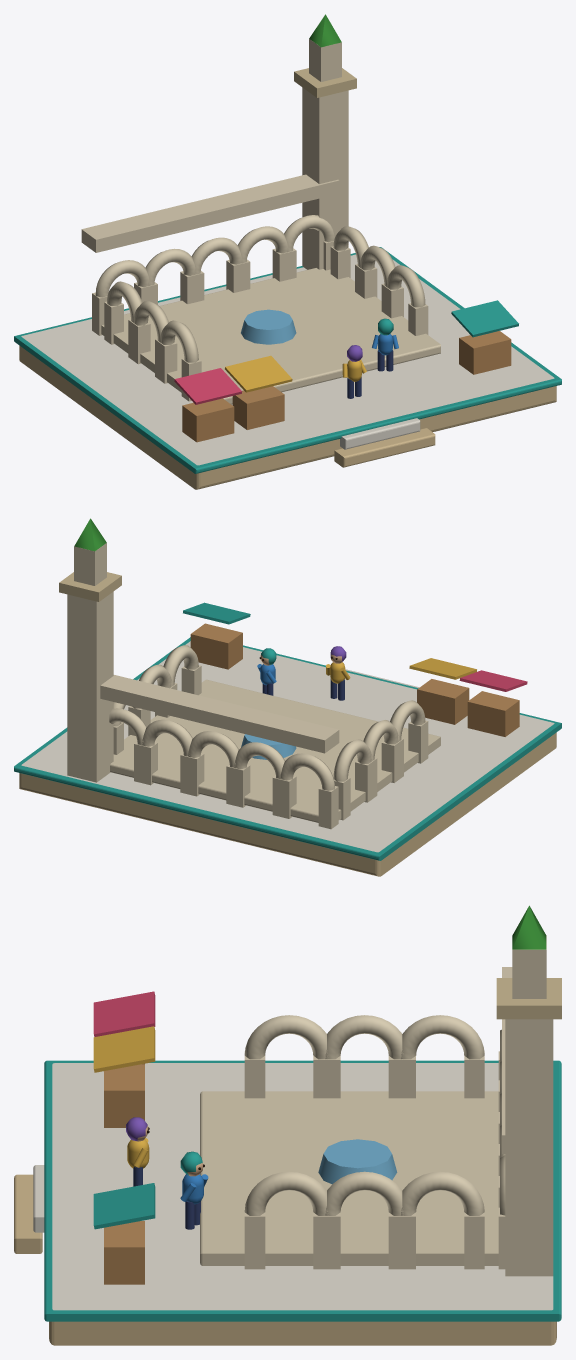
Rendered from fustat.glb.
The picture shows the model from 3 angles, top to bottom: view 1: azimuth 30°, elevation 25°; view 2: azimuth 150°, elevation 25°; view 3: azimuth 270°, elevation 25°; orthographic projection. The views are drawn at different scales.
Parts seen in each view (by area): view 1: part_000; view 2: part_000; view 3: part_000.
Part boxes in pixels (x1=…): part_000: x1=14, y1=14, x2=561, y2=489; part_000: x1=14, y1=518, x2=561, y2=876; part_000: x1=14, y1=905, x2=561, y2=1345.
Size of the model in its own units: 8.74 by 6.4 by 7.99.
